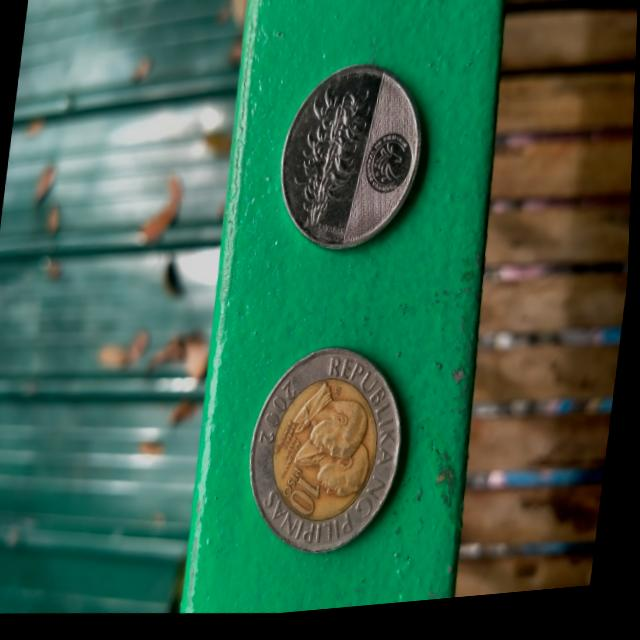10_Old_Front: (270, 454, 334, 533)
5_New_Back: (279, 72, 378, 247)
